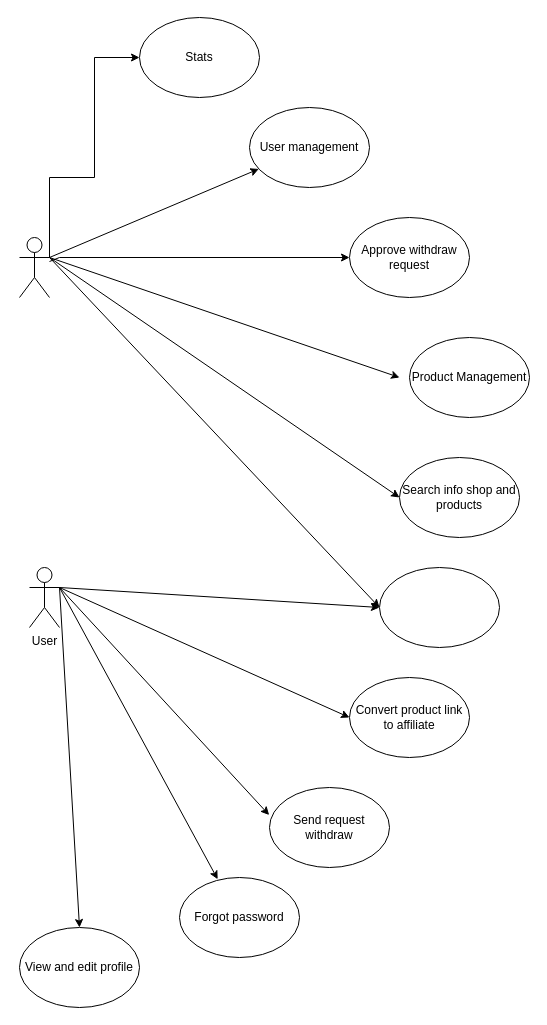
This 547x1025 diagram has some shape labels left out. Each missing label, with the box of its shape:
Admin: (18, 236, 50, 298)
Message: (378, 566, 500, 648)
